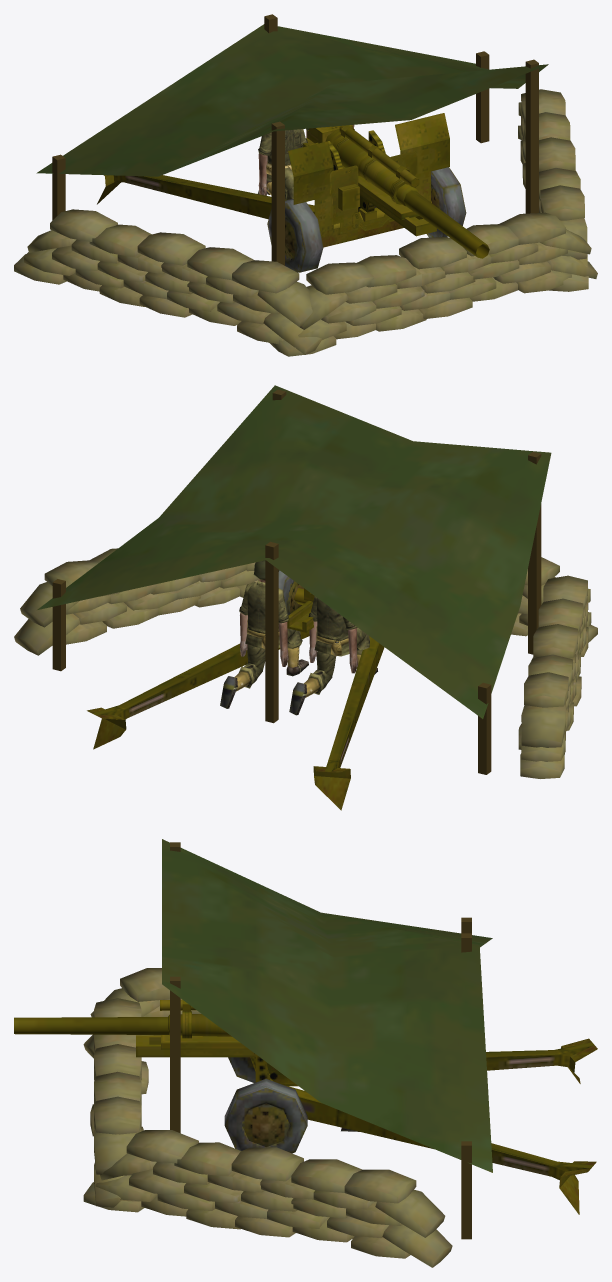
The model's file is USM5Gun_Stationary.dae.
The picture shows the model from 3 angles, top to bottom: view 1: azimuth 30°, elevation 25°; view 2: azimuth 150°, elevation 25°; view 3: azimuth 270°, elevation 25°; orthographic projection. The views are drawn at different scales.
Visible parts, largest first — view 1: base, carriage, sleeve, barrel, torso1; view 2: base, carriage, torso1, torso2, sleeve; view 3: base, carriage, sleeve, barrel.
Boxes of the visible parts, x1,y1,x2,y2 form: base: (14,14,597,356); carriage: (97,113,466,272); sleeve: (303,125,436,236); barrel: (308,125,489,258); torso1: (266,129,301,181); base: (14,385,597,778); carriage: (87,570,384,810); torso1: (314,598,349,656); torso2: (245,580,280,649); sleeve: (287,600,313,632); base: (83,839,492,1267); carriage: (224,1038,597,1214); sleeve: (136,999,298,1086); barrel: (14,1017,168,1034).
Size of the model in its own units: 51.33 by 44.12 by 19.77.
